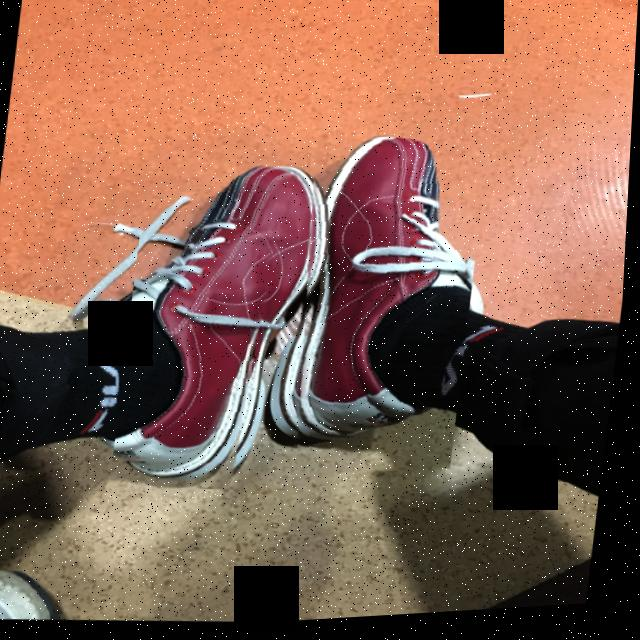shoe: (279, 107, 495, 489), (113, 126, 296, 499)
